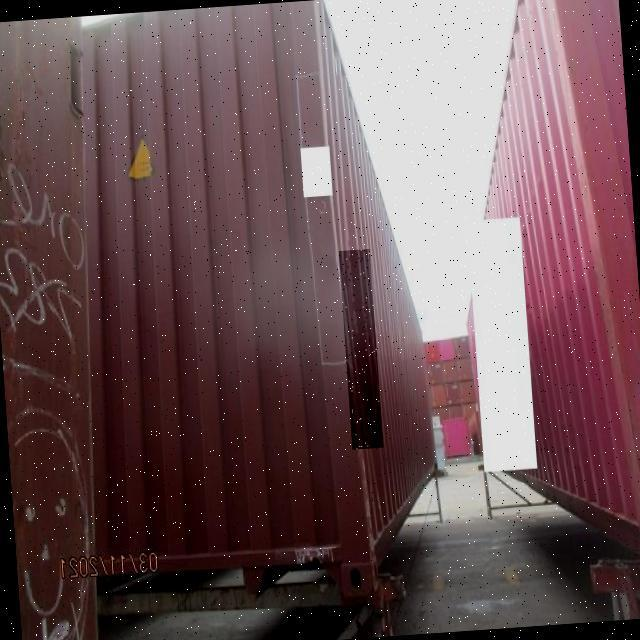Dent: (338, 248, 383, 449)
